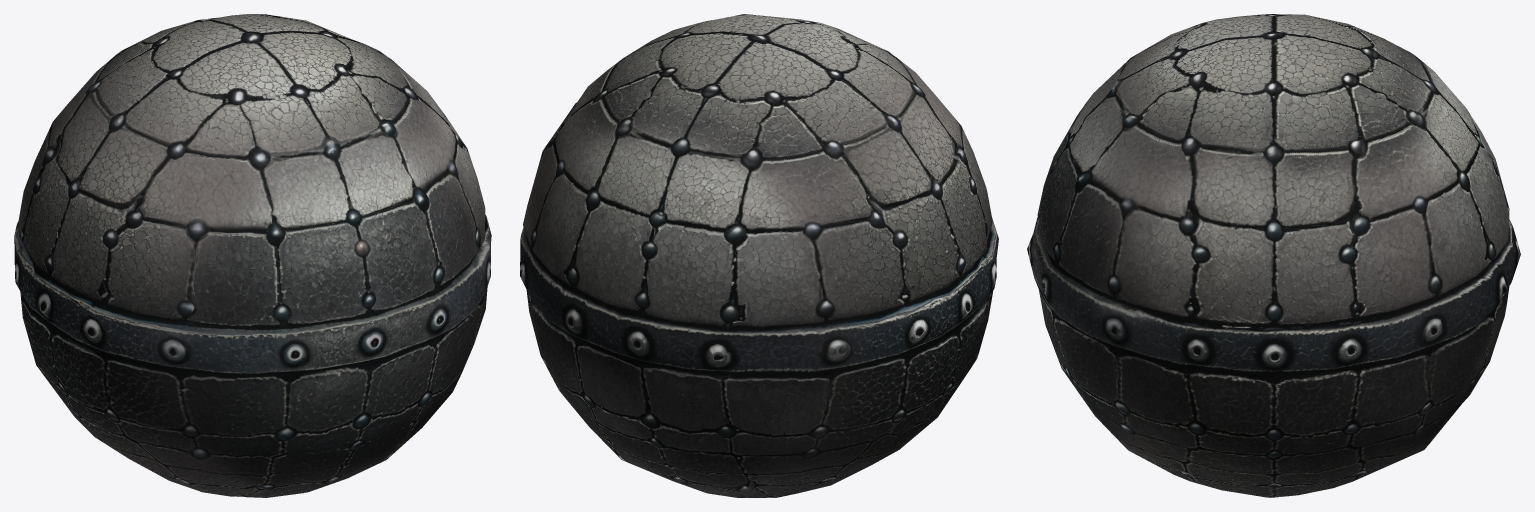
The model's file is Neck1.fbx.
The picture shows the model from 3 angles, left to right: view 1: azimuth 30°, elevation 25°; view 2: azimuth 150°, elevation 25°; view 3: azimuth 270°, elevation 25°; orthographic projection.
Visible parts, largest first — view 1: texture_mapping; view 2: texture_mapping; view 3: texture_mapping.
Part boxes in pixels (x1,y1,x2,y2): texture_mapping: (14,14,491,497); texture_mapping: (520,14,998,497); texture_mapping: (1027,14,1520,497).
Bounding box in the file's own units: 0.9665 × 0.9753 × 0.965.
Materials: 1 (1 with a texture image).
